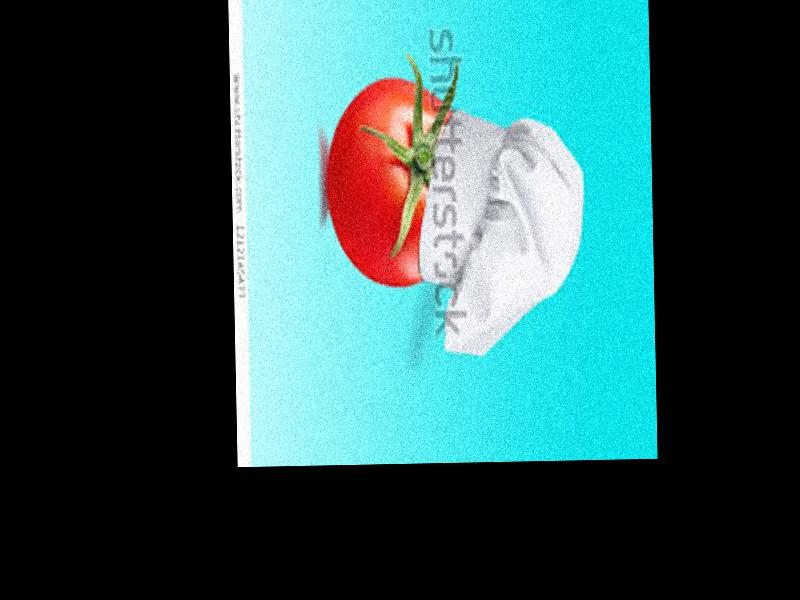Tomato: (327, 80, 456, 288)
